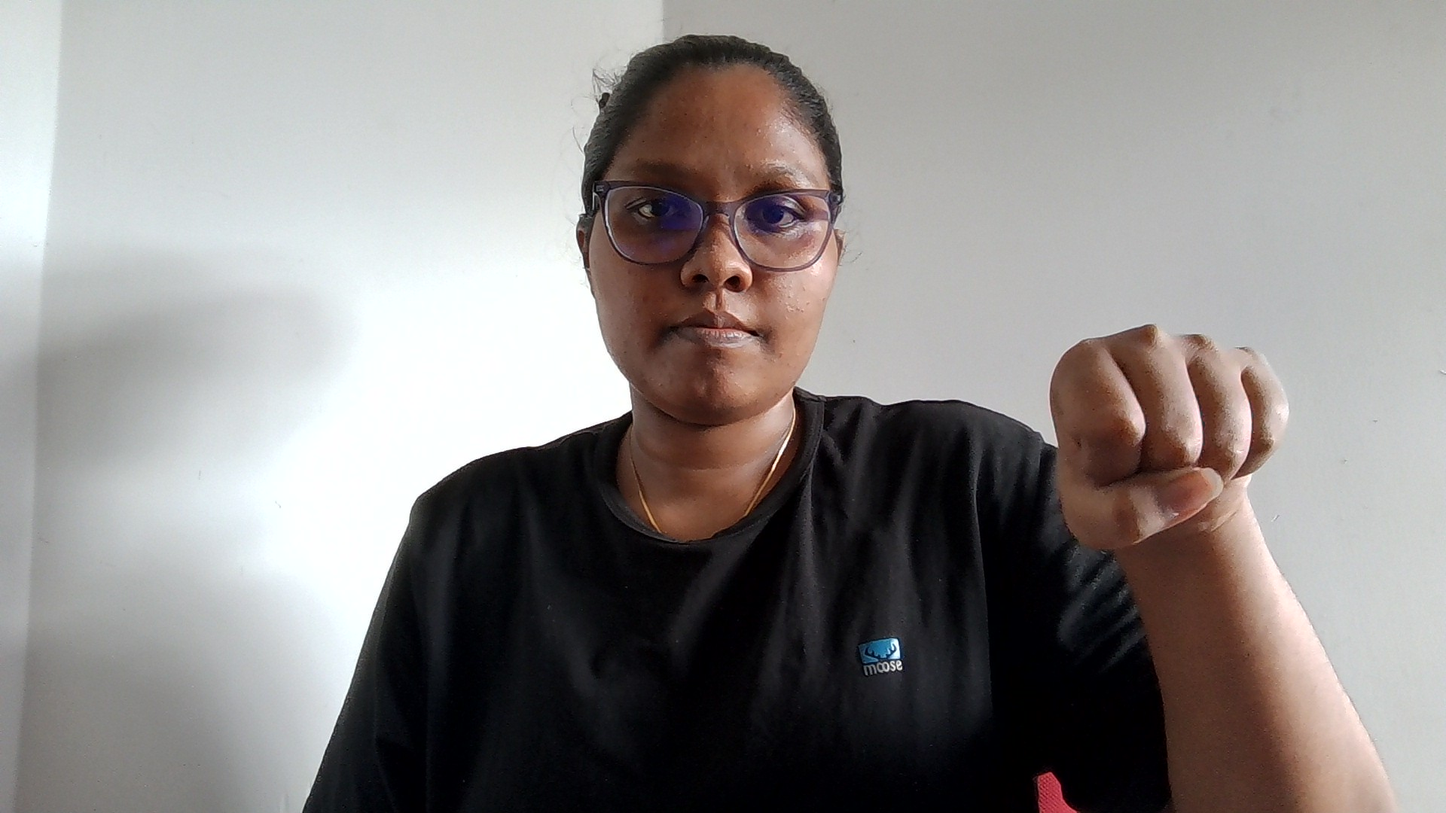Yes: (983, 220, 1344, 581)
